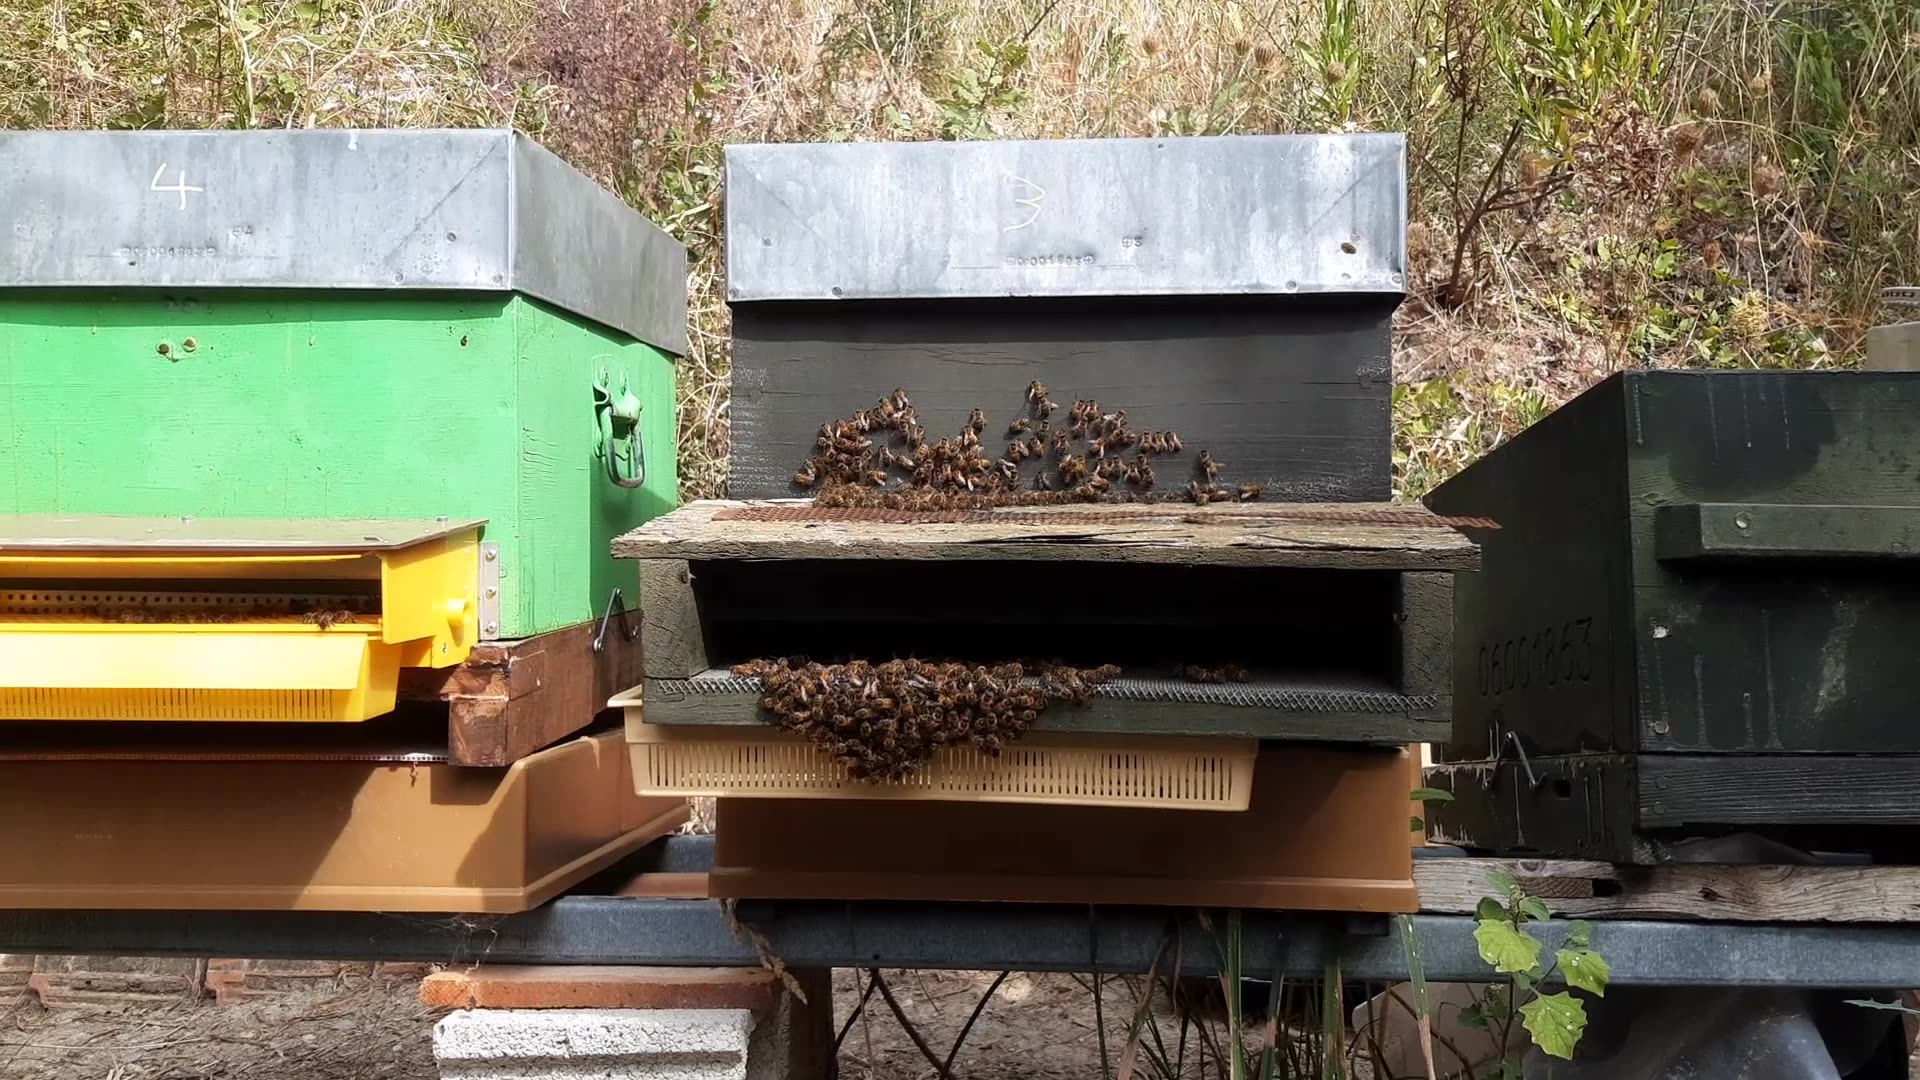bee: (800, 670, 891, 761), (822, 398, 914, 460), (833, 715, 909, 789), (741, 678, 812, 738), (1162, 443, 1229, 506), (814, 455, 887, 512), (934, 719, 996, 783), (934, 454, 1005, 506), (1025, 669, 1118, 708), (1023, 463, 1093, 516), (1029, 400, 1091, 450), (949, 415, 1007, 462)
